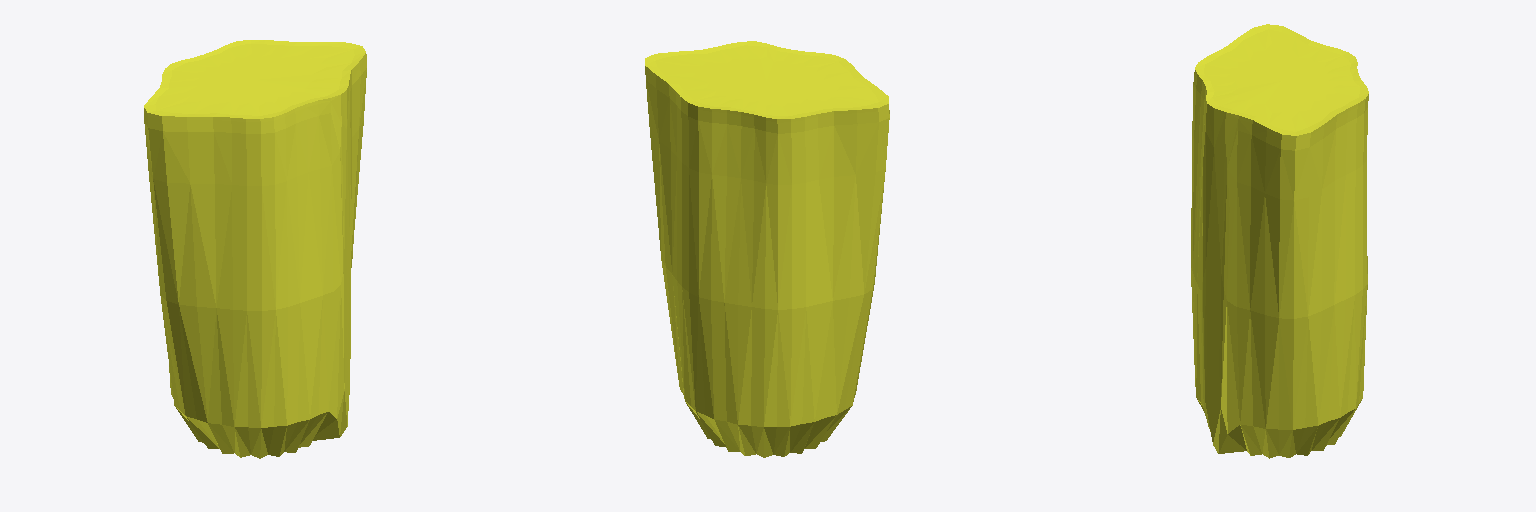
The picture shows the model from 3 angles: view 1: azimuth 30°, elevation 25°; view 2: azimuth 150°, elevation 25°; view 3: azimuth 270°, elevation 25°; orthographic projection.
Visible parts, largest first — view 1: pCylinder1; view 2: pCylinder1; view 3: pCylinder1.
Boxes of the visible parts, x1=… form: pCylinder1: x1=144, y1=40, x2=366, y2=458; pCylinder1: x1=645, y1=41, x2=889, y2=457; pCylinder1: x1=1191, y1=24, x2=1368, y2=458.
Size of the model in its own units: 1.81 by 2.66 by 1.22.